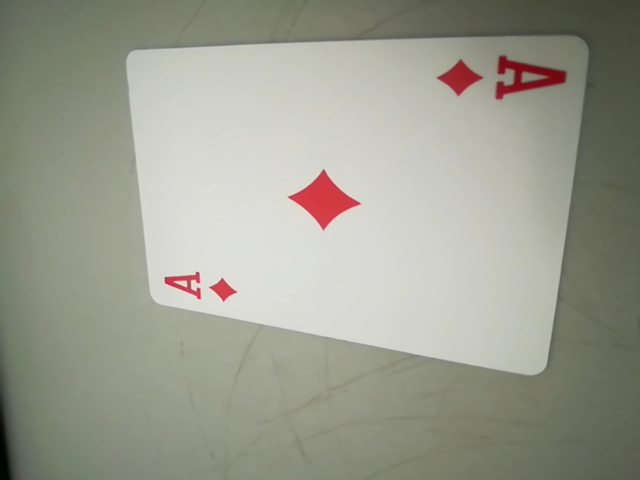fk a: (432, 48, 564, 106), (158, 262, 248, 306)
